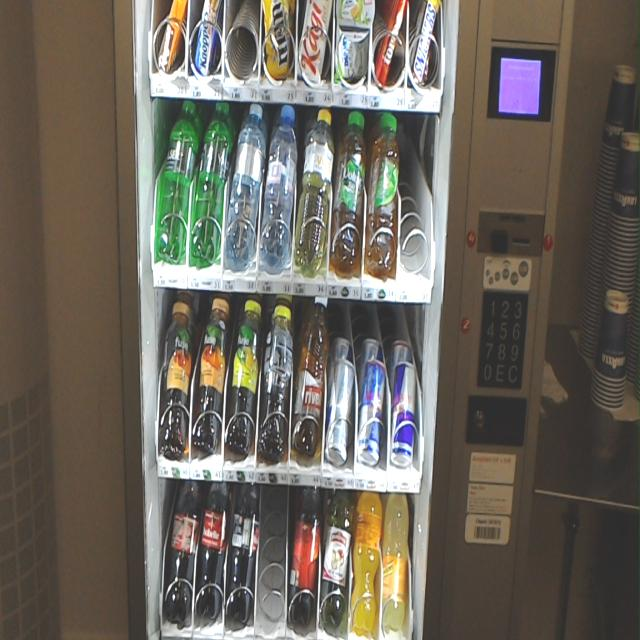coke__flasche_50__54491472: (164, 476, 201, 620), (196, 479, 230, 619)
coke_zero_flasche_50__5449000131836: (225, 481, 261, 620)
darwida_sandwich____7610032065170: (334, 0, 368, 82)
evian___50__3068320353500: (264, 101, 297, 272)
fanta___50__40822938: (350, 490, 384, 630)
fuse_lemon__50__5449000235947: (228, 298, 261, 451), (260, 305, 292, 455)
fuse_peach__50__5449000236623: (196, 298, 229, 449), (162, 302, 193, 459)
kagi___50__7610046000259: (298, 0, 329, 78)
knoppers_riegel____4035800488808: (194, 0, 221, 73)
mezzomix___50__54490840: (287, 485, 322, 623)
mnms_gelb__45__40111445: (263, 0, 292, 78)
ragusa___50__76401121: (157, 0, 185, 73)
ramseier_jusdepomme__50__7610057001078: (319, 488, 354, 627)
redbull___33__90162909: (326, 359, 355, 456), (358, 360, 384, 463), (391, 361, 417, 463)
rivella_rot__50__7610097111072: (295, 296, 327, 450)
schweppes_citrus__50__: (381, 488, 409, 631)
snickers___50__5000159461122: (409, 0, 439, 83)
torino___46__76415272: (373, 0, 406, 83)
valser_classic__50__76404160: (161, 98, 198, 260), (194, 98, 231, 259)
valser_still__50__7610335002575: (230, 101, 265, 272)
valser_vivabirne__50__7610335001530: (296, 106, 334, 280)
volvic_teeminze__50__3057640335648: (367, 110, 399, 281), (334, 108, 366, 270)
